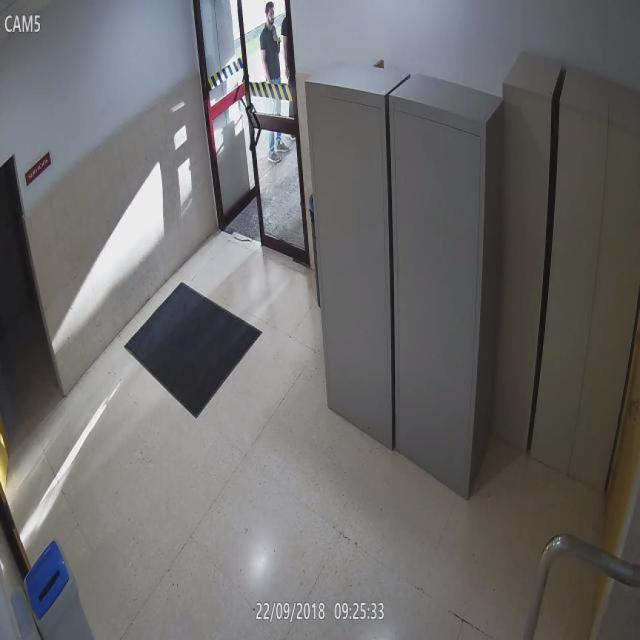pistol: (282, 66, 292, 86)
